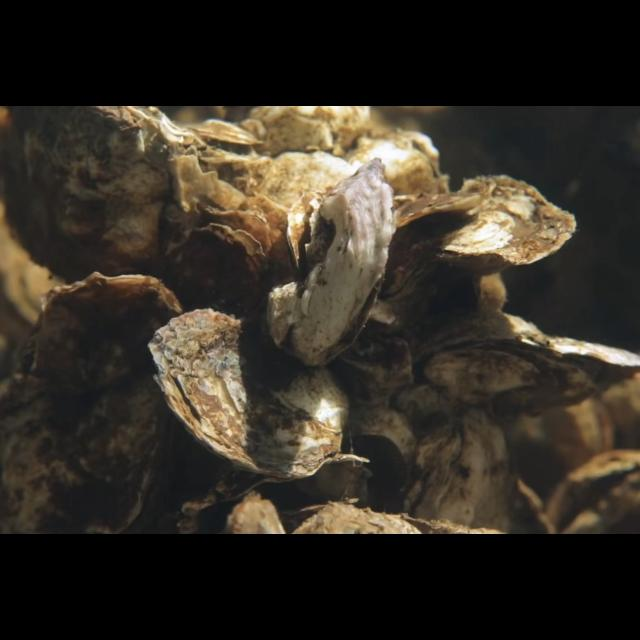Oyster-Closed: (0, 271, 184, 535), (0, 106, 220, 288), (143, 308, 353, 480), (262, 157, 394, 369), (382, 176, 576, 302), (394, 408, 518, 534), (163, 222, 267, 324)
Oyster-Open: (410, 314, 640, 426), (231, 456, 369, 534), (541, 447, 639, 535), (178, 118, 264, 170)
